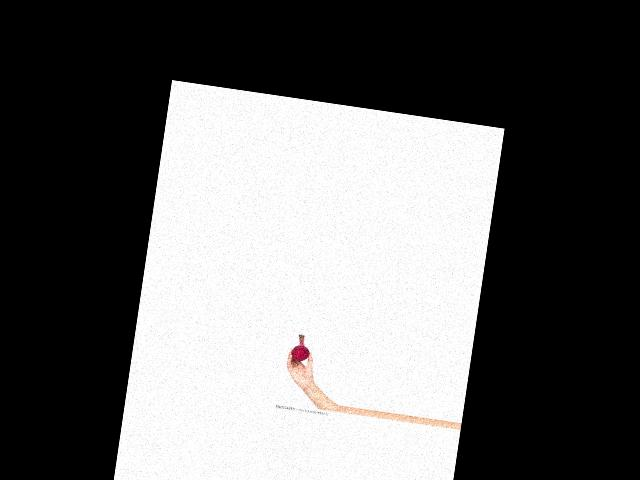beet: (289, 333, 311, 361)
